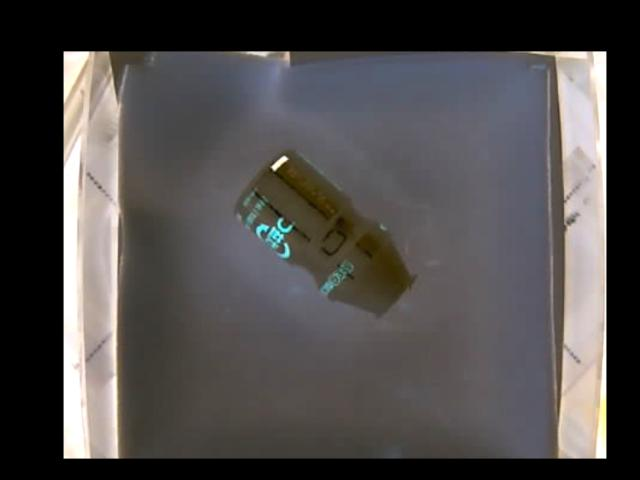Bottle: (235, 148, 412, 318)
